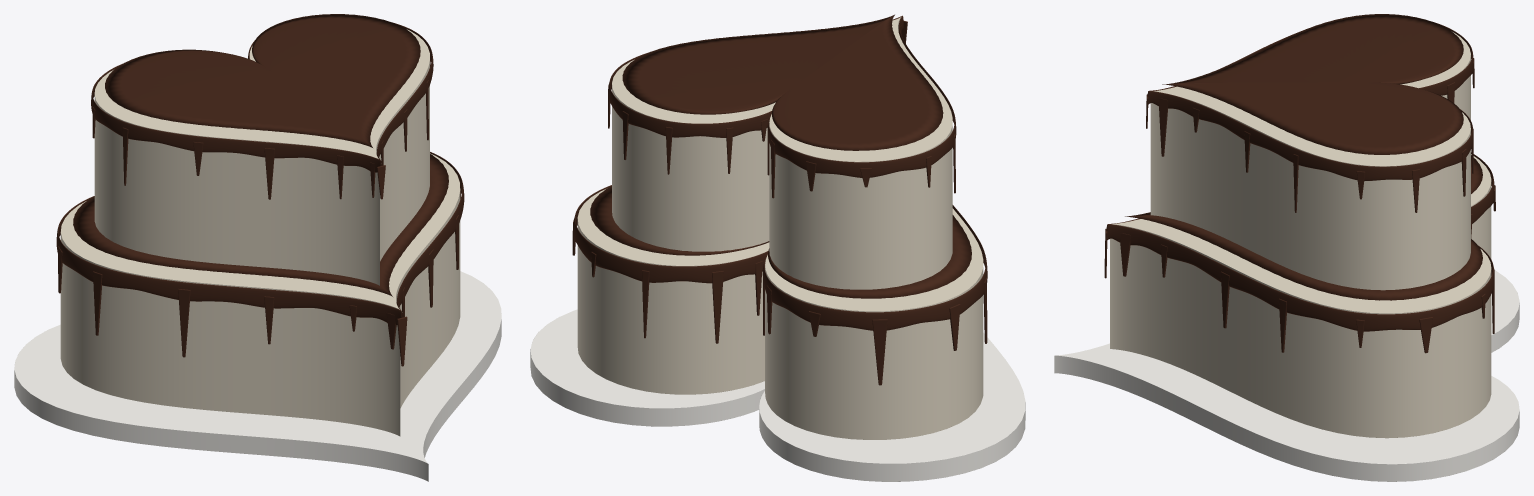
File: heart_2_tier.glb
The picture shows the model from 3 angles, left to right: view 1: azimuth 30°, elevation 25°; view 2: azimuth 150°, elevation 25°; view 3: azimuth 270°, elevation 25°; orthographic projection. The views are drawn at different scales.
Visible parts, largest first — view 1: heart_2_L1_body, heart_2_L2_body, heart_2_board, heart_2_L2_copied_circle_style_glossy_top_cap, heart_2_L1_copied_circle_style_heart_full_perimeter_chocolat, heart_2_L1_copied_circle_style_glossy_top_cap, heart_2_L2_copied_circle_style_heart_full_perimeter_chocolat, heart_2_L1_copied_circle_style_heart_tapered_curtain_drip_15; view 2: heart_2_L1_body, heart_2_L2_body, heart_2_L2_copied_circle_style_glossy_top_cap, heart_2_board, heart_2_L1_copied_circle_style_heart_full_perimeter_chocolat, heart_2_L2_copied_circle_style_heart_full_perimeter_chocolat, heart_2_L1_copied_circle_style_glossy_top_cap, heart_2_L1_copied_circle_style_heart_tapered_curtain_drip_18, heart_2_L1_copied_circle_style_heart_tapered_curtain_drip_02; view 3: heart_2_L1_body, heart_2_L2_body, heart_2_L2_copied_circle_style_glossy_top_cap, heart_2_board, heart_2_L1_copied_circle_style_heart_full_perimeter_chocolat, heart_2_L2_copied_circle_style_heart_full_perimeter_chocolat, heart_2_L1_copied_circle_style_glossy_top_cap.
Boxes of the visible parts, x1,y1,x2,y2 form: heart_2_L1_body: (60,153,460,436); heart_2_L2_body: (94,29,429,285); heart_2_board: (14,271,501,481); heart_2_L2_copied_circle_style_glossy_top_cap: (105,14,420,147); heart_2_L1_copied_circle_style_heart_full_perimeter_chocolat: (56,152,464,325); heart_2_L1_copied_circle_style_glossy_top_cap: (73,154,448,296); heart_2_L2_copied_circle_style_heart_full_perimeter_chocolat: (91,23,433,172); heart_2_L1_copied_circle_style_heart_tapered_curtain_drip_15: (178,289,190,357); heart_2_L1_body: (577,189,983,439); heart_2_L2_body: (612,17,952,289); heart_2_L2_copied_circle_style_glossy_top_cap: (622,14,943,150); heart_2_board: (530,309,1025,481); heart_2_L1_copied_circle_style_heart_full_perimeter_chocolat: (573,185,987,330); heart_2_L2_copied_circle_style_heart_full_perimeter_chocolat: (608,15,956,177); heart_2_L1_copied_circle_style_glossy_top_cap: (590,186,971,298); heart_2_L1_copied_circle_style_heart_tapered_curtain_drip_18: (872,319,887,385); heart_2_L1_copied_circle_style_heart_tapered_curtain_drip_02: (712,271,723,343); heart_2_L1_body: (1110,154,1491,438); heart_2_L2_body: (1150,32,1470,290); heart_2_L2_copied_circle_style_glossy_top_cap: (1162,14,1463,154); heart_2_board: (1054,270,1519,481); heart_2_L1_copied_circle_style_heart_full_perimeter_chocolat: (1106,152,1494,331); heart_2_L2_copied_circle_style_heart_full_perimeter_chocolat: (1147,21,1473,180); heart_2_L1_copied_circle_style_glossy_top_cap: (1125,155,1482,300).
Size of the model in its own units: 5.79 by 3.61 by 5.24.
